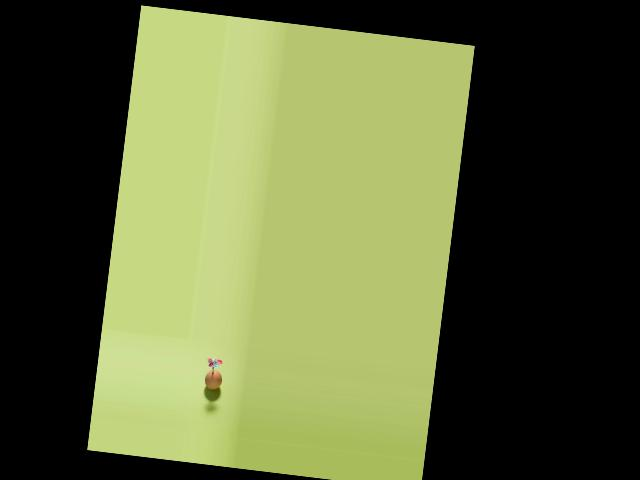egg: (203, 369, 222, 390)
